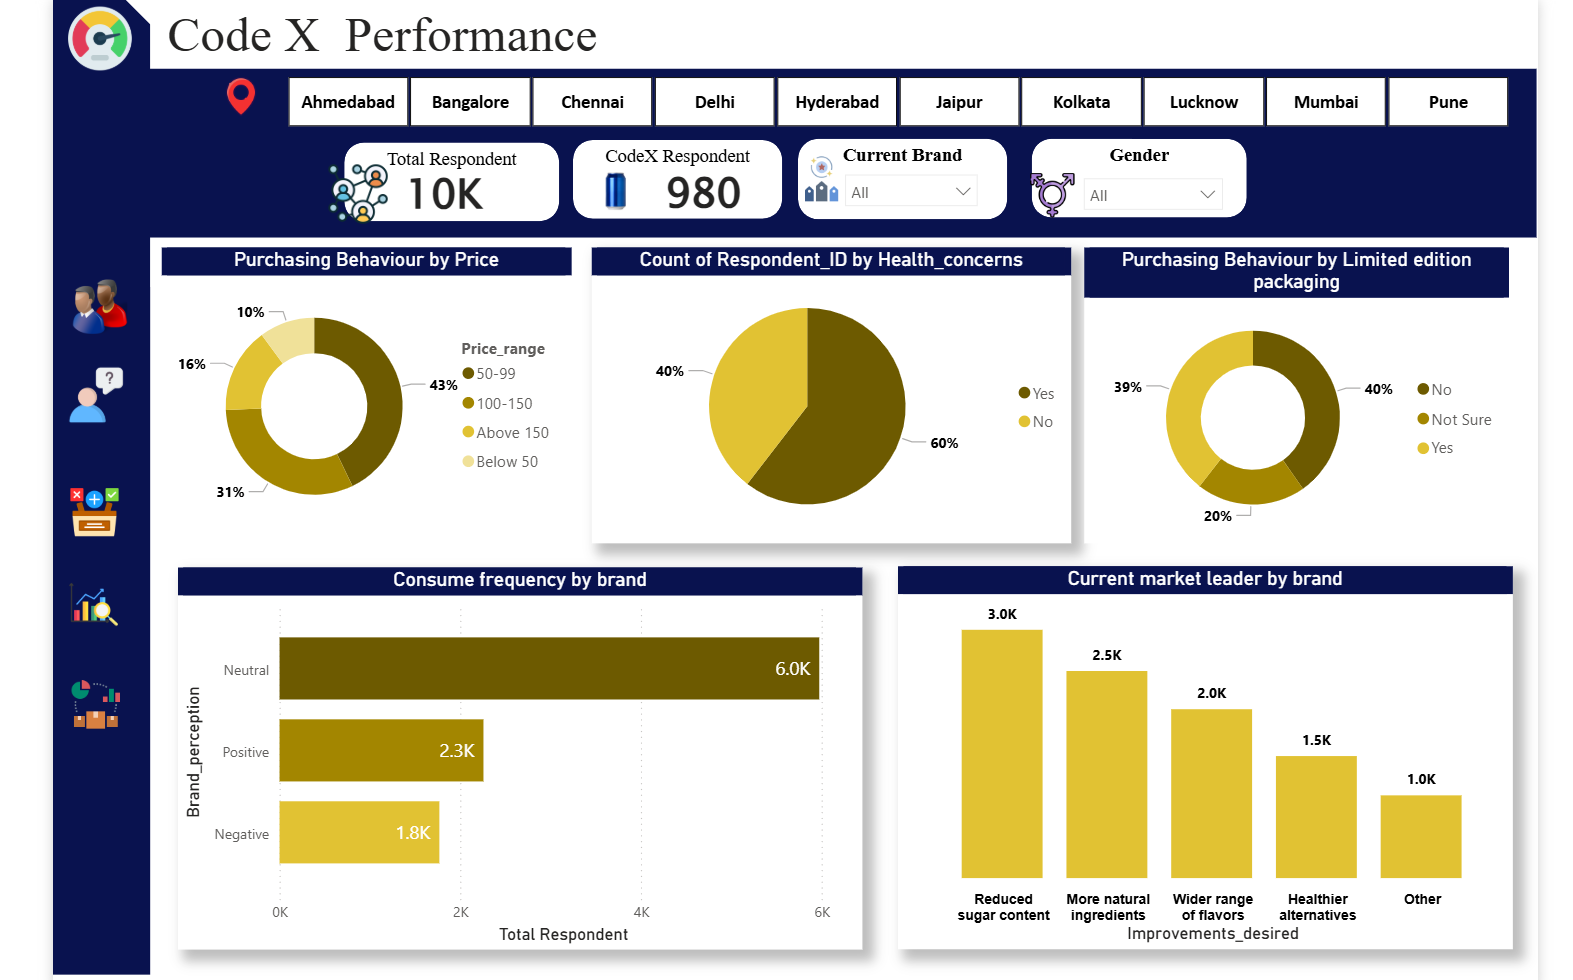

This screenshot's page, from the dashboard's own definition file:
{"tool":"powerbi","page":{"name":"CodeX performance","canvas":[1281,854],"ordinal":6},"visuals":[{"type":"shape","box":[67.9,59.6,1211.8,145.7],"z":0},{"type":"shape","box":[642.3,119.2,180.5,69.5],"z":1000},{"type":"textbox","box":[94.1,0,415.2,87.4],"z":2000},{"type":"shape","box":[0,0,84.1,841],"z":3000},{"type":"shape","box":[448.6,120.9,180.5,67.9],"z":4000},{"type":"card","fields":{"Values":["fact_survey_responses.codex respondent"]},"box":[509.9,137.4,102.6,56.3],"z":5000},{"type":"shape","box":[251.6,122.5,185.4,67.9],"z":6000},{"type":"card","fields":{"Values":["measure.Total Respondent"]},"box":[263.2,140.7,149,49.7],"z":7000},{"type":"slicer","fields":{"Values":["dim_cities.City"]},"box":[177.1,59.6,1102.6,56.3],"z":8000},{"type":"slicer","fields":{"Values":["fact_survey_responses.Current_brands"]},"box":[673.3,140,135,46.7],"z":9000},{"type":"shape","box":[844.3,119.2,185.4,67.9],"z":10000},{"type":"slicer","fields":{"Values":["dim_repondents.Gender"]},"box":[878.3,143.3,140,40],"z":11000},{"type":"image","box":[836,144,53,48],"z":12000},{"type":"image","box":[129.1,59.6,66.2,48],"z":13000},{"type":"image","box":[195.4,137.4,135.8,61.3],"z":14000},{"type":"image","box":[629.1,129.1,69.5,49.7],"z":15000},{"type":"image","box":[448.6,140.7,72.8,46.4],"z":16000},{"type":"donutChart","title":"Purchasing Behaviour by Price","fields":{"Category":["fact_survey_responses.Price_range"],"Y":["CountNonNull(dim_repondents.Respondent_ID)"]},"box":[93.3,213.3,353.3,255],"z":17000},{"type":"pieChart","fields":{"Y":["CountNonNull(dim_repondents.Respondent_ID)"],"Category":["fact_survey_responses.Health_concerns"]},"box":[465,213.3,413.3,255],"z":18000},{"type":"donutChart","title":"Purchasing Behaviour by Limited edition packaging","fields":{"Y":["measure.Total Respondent"],"Series":["fact_survey_responses.Limited_edition_packaging"]},"box":[889.3,213.5,366.5,255.5],"z":19000},{"type":"columnChart","title":"Current market leader by brand","fields":{"Category":["fact_survey_responses.Improvements_desired"],"Y":["measure.Total Respondent"]},"box":[728.6,488.6,530,330],"z":20000},{"type":"barChart","title":"Consume frequency  by brand","fields":{"Category":["dim_cities.City","fact_survey_responses.Brand_perception"],"Y":["measure.Total Respondent"]},"box":[107.6,489.2,590.1,329.5],"z":21000},{"type":"image","box":[6.7,0,68.3,66.7],"z":22000},{"type":"image","box":[10,236.7,61.7,56.7],"z":23000},{"type":"image","box":[6.7,301.7,61.7,78.3],"z":24000},{"type":"image","box":[5,416.7,60,51.7],"z":25000},{"type":"image","box":[1.7,495,65,53.3],"z":26000},{"type":"image","box":[10,581.7,55,53.3],"z":27000}]}

Visuals, with their boxes on the page's 1281x854 design canvas (x1, y1, x2, y2). These are canvas units, not pixel positions in the 1573x980 screenshot, which may show the page scaled, cropped or inside an application window:
shape: rect(68, 60, 1280, 205)
shape: rect(642, 119, 823, 189)
textbox: rect(94, 0, 509, 87)
shape: rect(0, 0, 84, 841)
shape: rect(449, 121, 629, 189)
card - fact_survey_responses.codex respondent: rect(510, 137, 612, 194)
shape: rect(252, 122, 437, 190)
card - measure.Total Respondent: rect(263, 141, 412, 190)
slicer - dim_cities.City: rect(177, 60, 1280, 116)
slicer - fact_survey_responses.Current_brands: rect(673, 140, 808, 187)
shape: rect(844, 119, 1030, 187)
slicer - dim_repondents.Gender: rect(878, 143, 1018, 183)
image: rect(836, 144, 889, 192)
image: rect(129, 60, 195, 108)
image: rect(195, 137, 331, 199)
image: rect(629, 129, 699, 179)
image: rect(449, 141, 521, 187)
"Purchasing Behaviour by Price" donutChart: rect(93, 213, 447, 468)
pieChart - CountNonNull(dim_repondents.Respondent_ID) x fact_survey_responses.Health_concerns: rect(465, 213, 878, 468)
"Purchasing Behaviour by Limited edition packaging" donutChart: rect(889, 214, 1256, 469)
"Current market leader by brand" columnChart: rect(729, 489, 1259, 819)
"Consume frequency  by brand" barChart: rect(108, 489, 698, 819)
image: rect(7, 0, 75, 67)
image: rect(10, 237, 72, 293)
image: rect(7, 302, 68, 380)
image: rect(5, 417, 65, 468)
image: rect(2, 495, 67, 548)
image: rect(10, 582, 65, 635)
